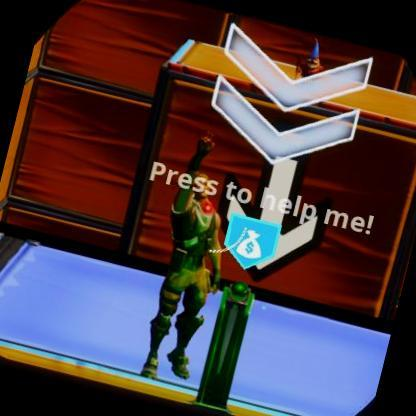person: (130, 166, 232, 366)
